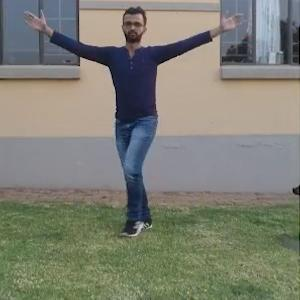takeoff: (34, 8, 218, 206)
